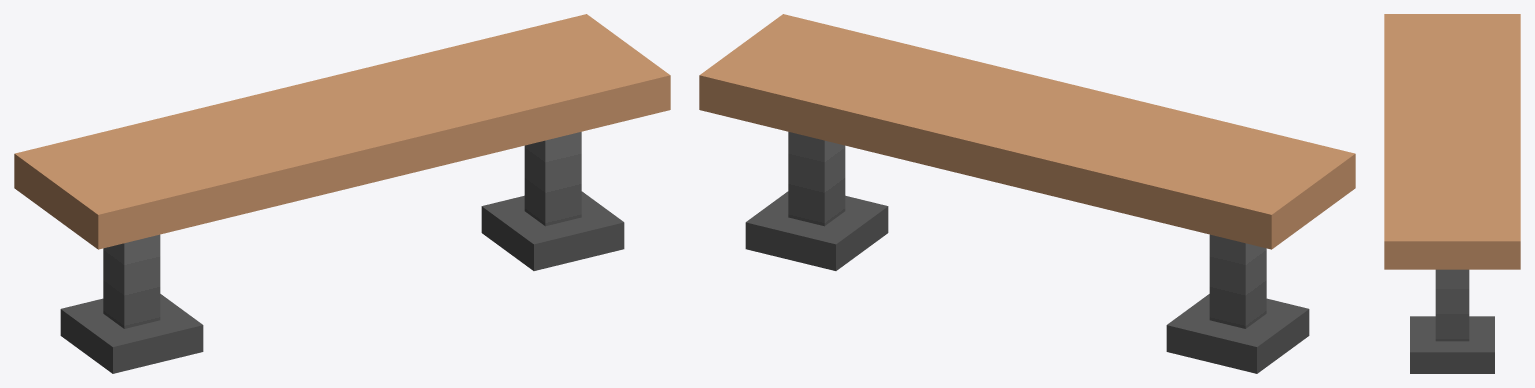
File: bench.glb
3 renders of one model, left to right at view 1: azimuth 30°, elevation 25°; view 2: azimuth 150°, elevation 25°; view 3: azimuth 270°, elevation 25°, orthographic. The views are drawn at different scales.
Parts seen in each view (by area): view 1: bench; view 2: bench; view 3: bench.
Boxes of the visible parts, <box> form: bench: <box>14,14,670,373</box>; bench: <box>699,14,1355,373</box>; bench: <box>1384,14,1520,373</box>.
Bounding box in the file's own units: 3.2 × 0.95 × 0.8099.
1 material, 1 textured.
